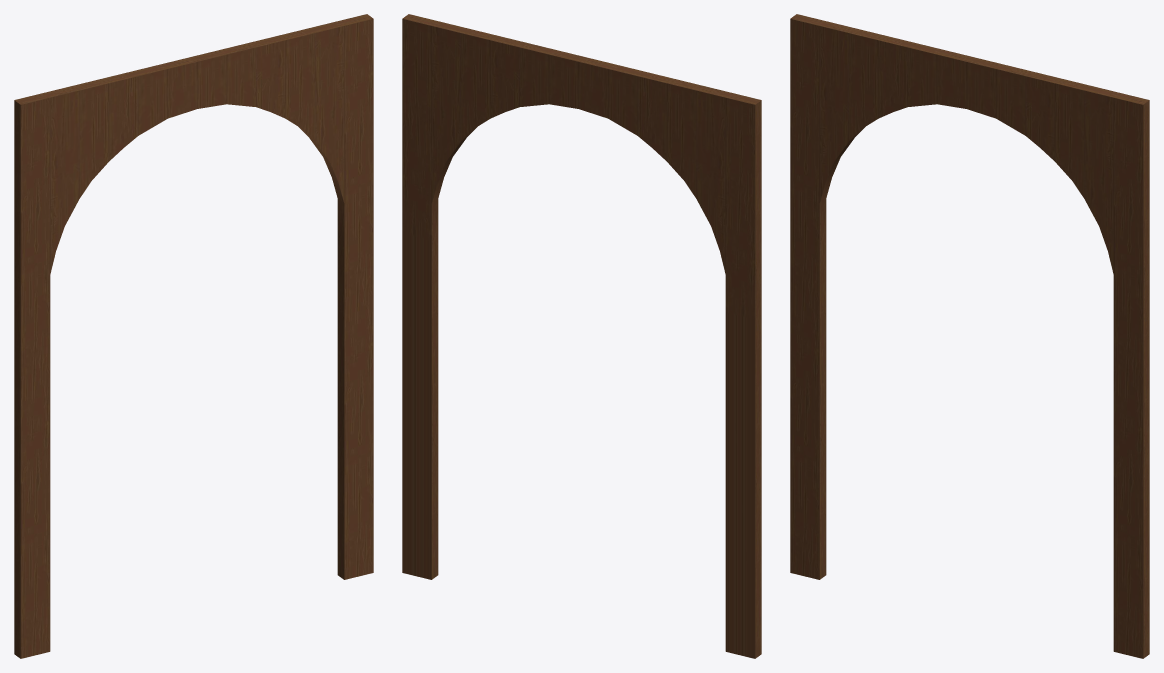
The model's file is wall-qm-wallarch.glb.
3 views of the same model, side by side, from view 1: azimuth 30°, elevation 25°; view 2: azimuth 150°, elevation 25°; view 3: azimuth 330°, elevation 25° (orthographic).
Parts seen in each view (by area): view 1: Plane_007; view 2: Plane_007; view 3: Plane_007.
Boxes of the visible parts, x1,y1,x2,y2 form: Plane_007: [14, 14, 373, 658]; Plane_007: [402, 14, 761, 658]; Plane_007: [790, 14, 1149, 658].
Size of the model in its own units: 2 by 3 by 0.064.
1 material, 1 textured.
